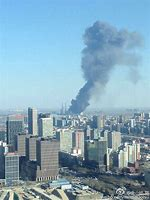smoke: (67, 20, 131, 111)
